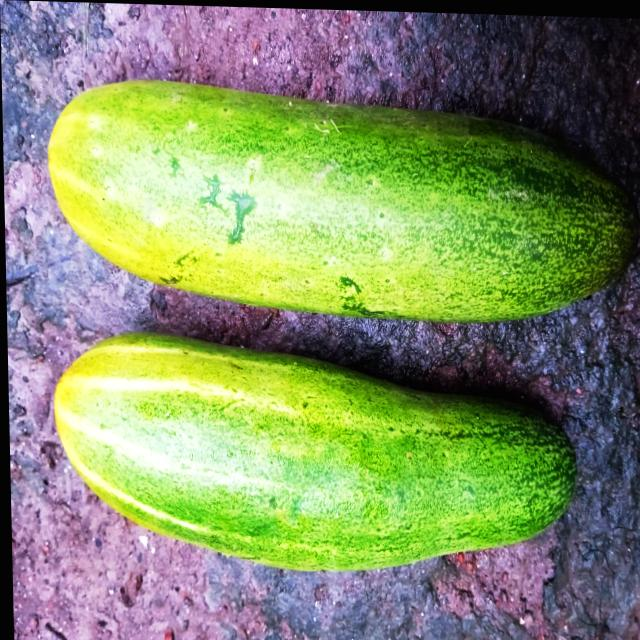Fresh-Cucumber: (44, 70, 640, 327), (48, 327, 575, 575)
